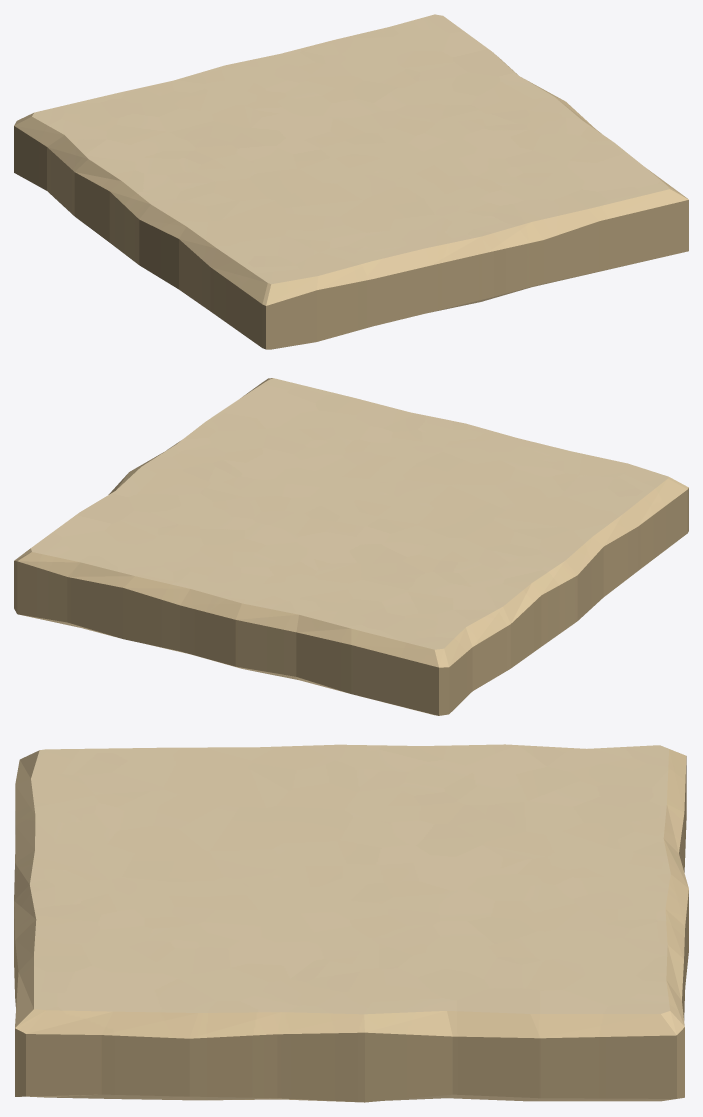
Rendered from tile_b_intact.glb.
3 renders of one model, top to bottom at view 1: azimuth 30°, elevation 25°; view 2: azimuth 150°, elevation 25°; view 3: azimuth 270°, elevation 25°, orthographic. The views are drawn at different scales.
Visible parts, largest first — view 1: tile_b_intact; view 2: tile_b_intact; view 3: tile_b_intact.
Boxes of the visible parts, <box> form: tile_b_intact: <box>14,14,688,349</box>; tile_b_intact: <box>14,378,688,715</box>; tile_b_intact: <box>14,744,688,1102</box>.
Bounding box in the file's own units: 2.8 × 0.4 × 2.8.
Materials: 3 (3 with a texture image).
